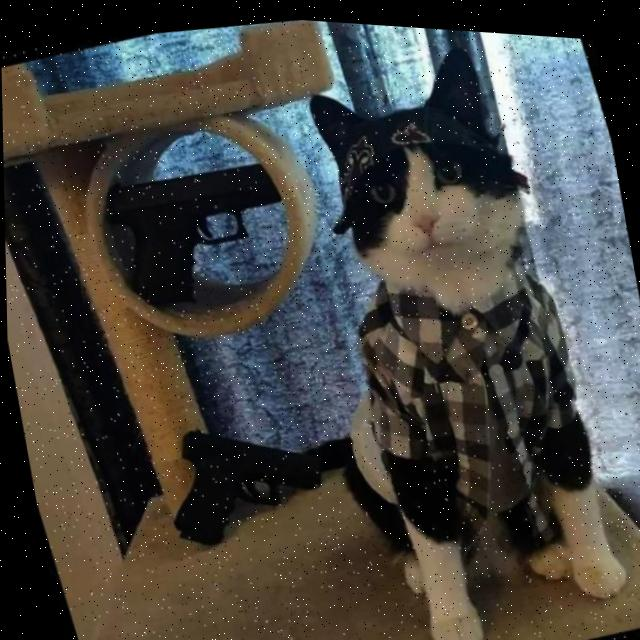Cats: (266, 20, 571, 383)
